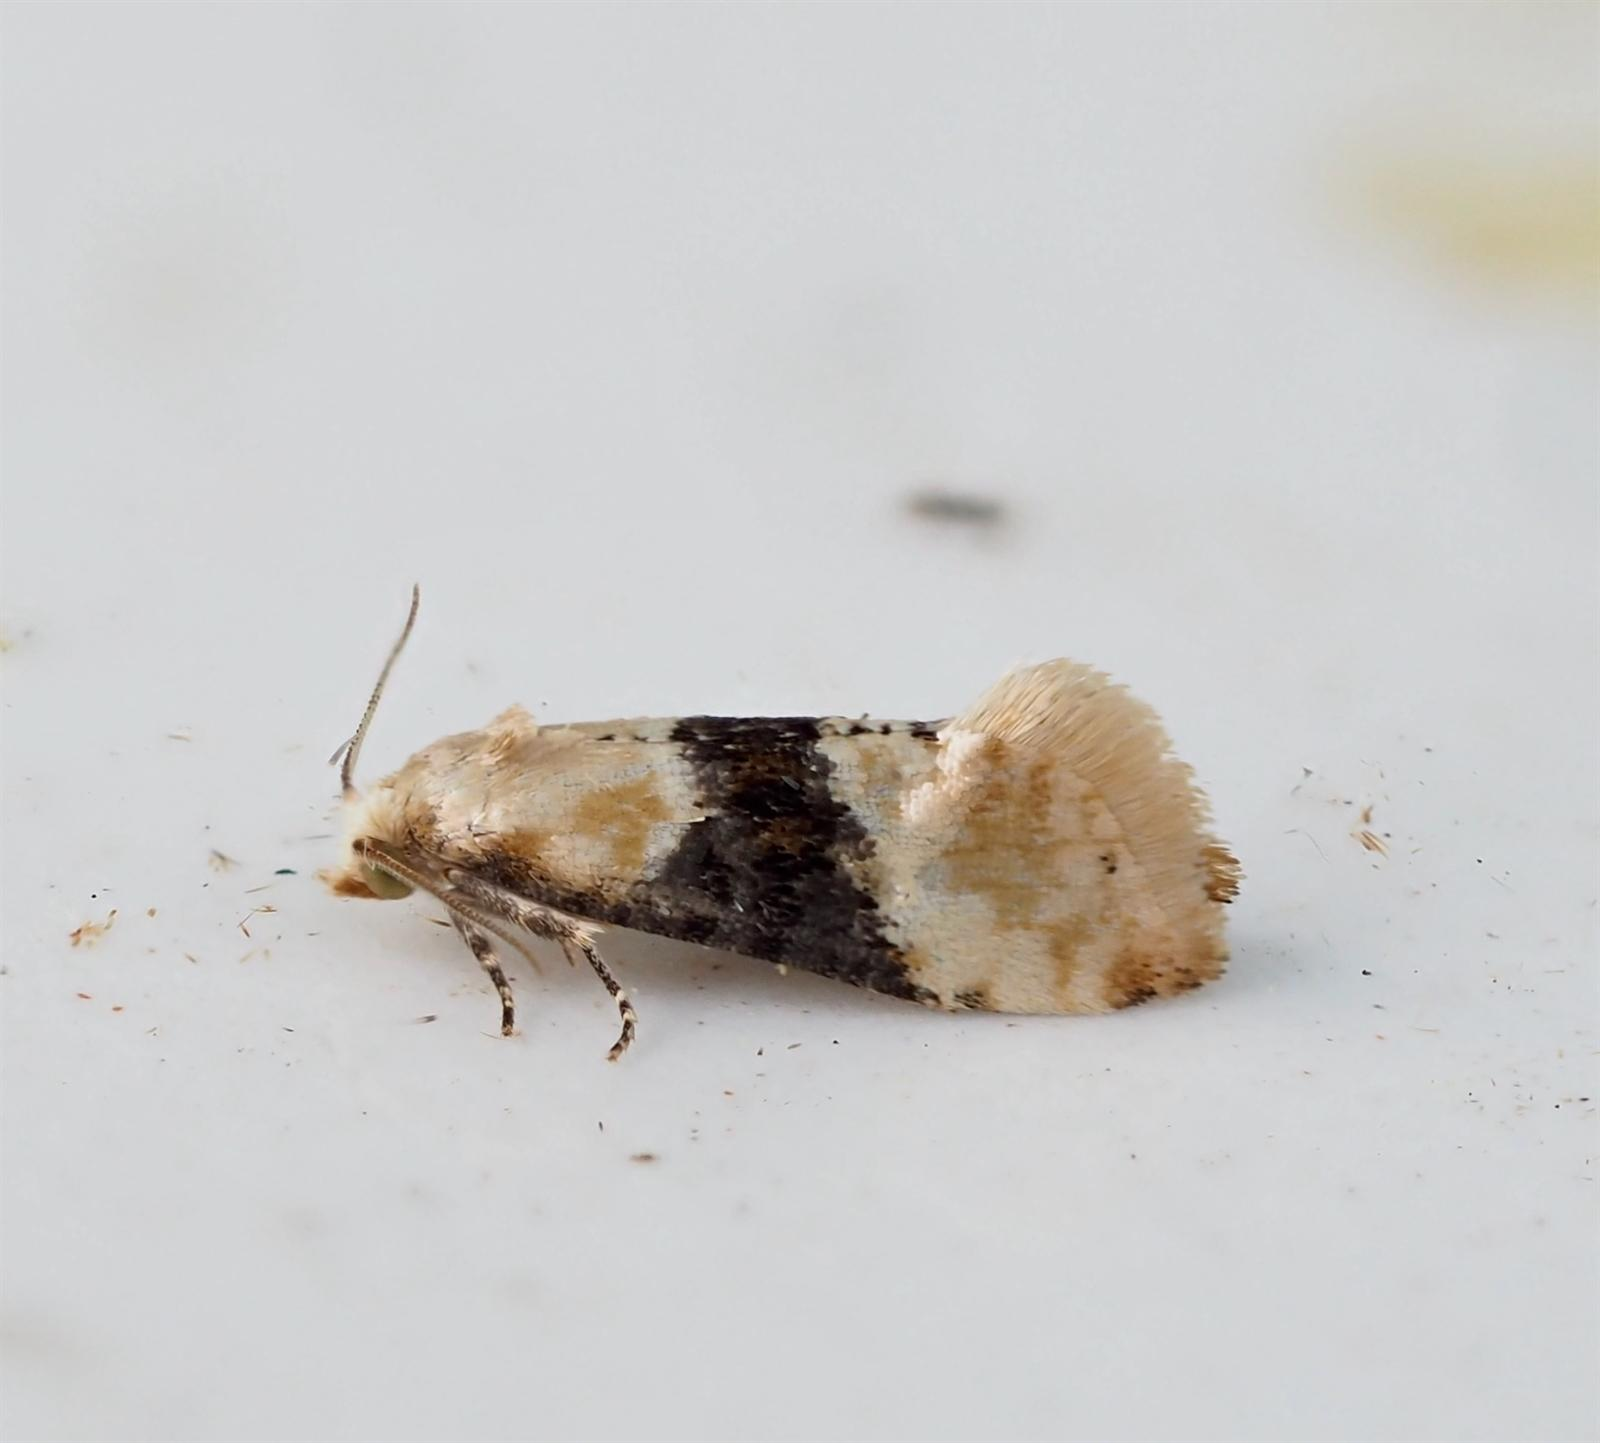Eupoecilia Ambiguella: (316, 579, 1245, 1064)
